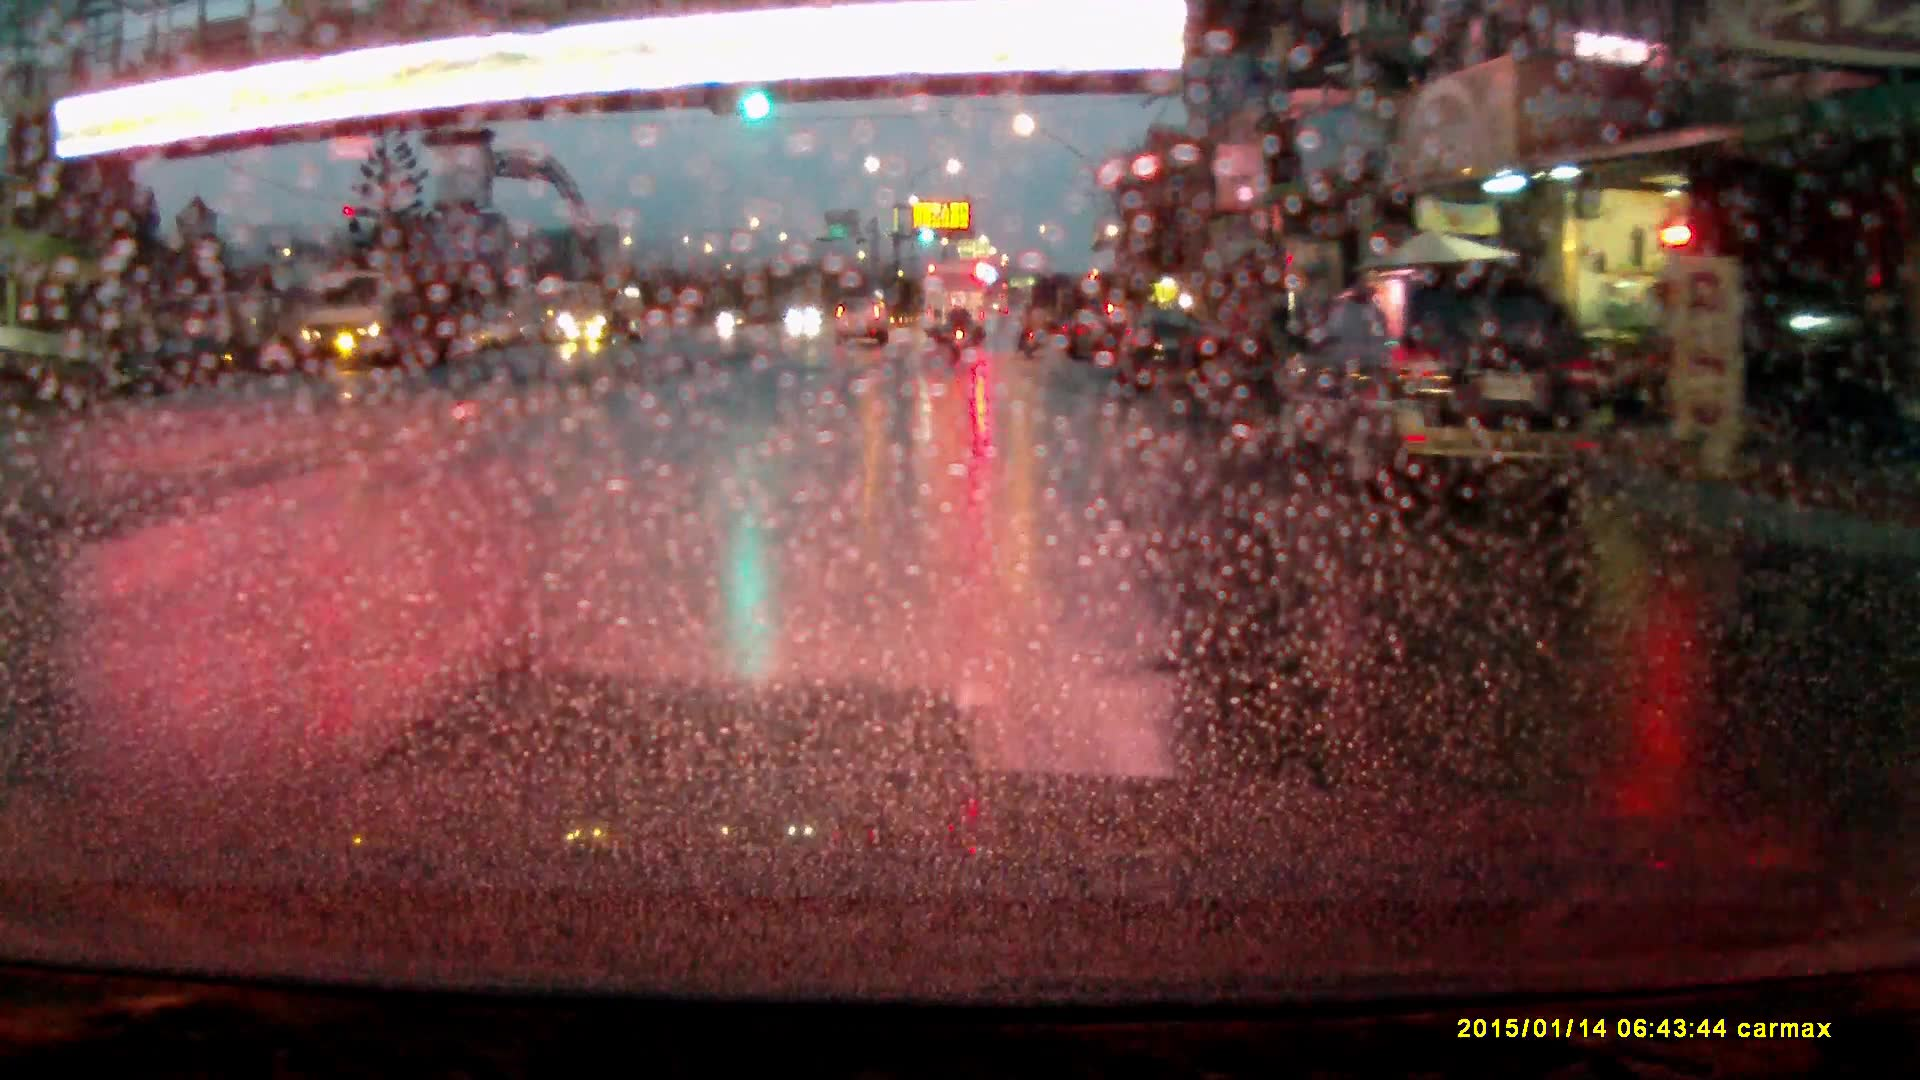rider: (947, 297, 973, 354)
vehicle: (1273, 258, 1619, 497), (293, 273, 459, 373), (1113, 306, 1214, 389), (556, 286, 651, 346), (920, 264, 990, 343), (1062, 307, 1129, 362), (832, 276, 889, 323)
